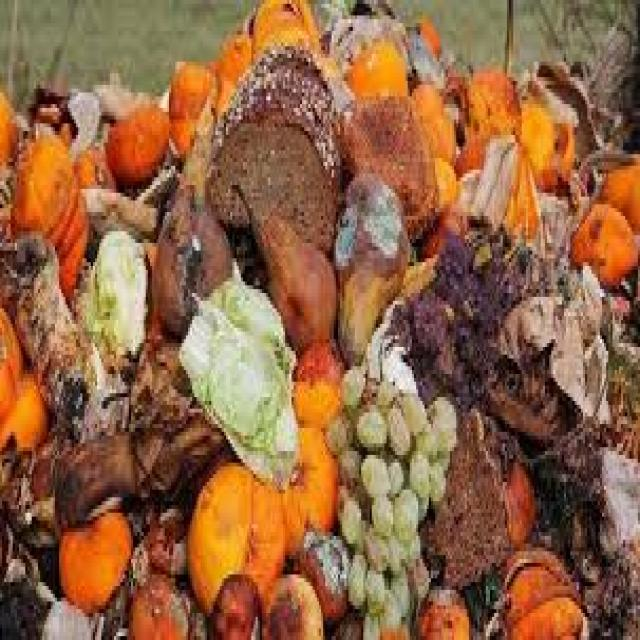organic waste: (0, 93, 638, 636), (332, 366, 446, 636), (380, 216, 549, 393), (203, 69, 342, 247), (0, 232, 78, 548), (46, 386, 224, 498), (253, 0, 350, 204), (57, 89, 211, 208), (184, 447, 289, 621), (156, 212, 243, 393), (342, 85, 446, 231), (490, 289, 591, 436), (13, 104, 90, 289), (236, 193, 336, 335), (336, 178, 408, 366), (437, 412, 505, 598), (0, 532, 120, 636), (150, 66, 237, 192), (340, 251, 442, 347), (87, 220, 150, 370), (555, 428, 638, 540), (332, 16, 437, 104), (270, 424, 332, 571), (446, 66, 520, 178), (477, 139, 541, 266), (566, 189, 638, 301), (492, 548, 581, 636), (399, 74, 458, 200), (57, 501, 131, 598), (285, 328, 347, 436), (507, 85, 568, 185), (412, 575, 496, 636), (585, 544, 638, 636), (264, 571, 323, 636), (207, 567, 260, 636), (505, 444, 541, 544), (300, 532, 344, 613), (127, 578, 188, 636), (589, 150, 638, 220), (135, 513, 188, 574), (361, 563, 387, 624), (357, 397, 384, 455), (175, 590, 207, 636), (384, 405, 406, 451), (408, 448, 428, 498), (402, 385, 421, 432), (388, 571, 408, 613), (372, 486, 388, 536), (357, 513, 374, 559), (366, 524, 384, 567), (428, 455, 446, 497), (378, 586, 397, 625), (404, 524, 421, 567), (391, 490, 410, 528), (361, 451, 380, 486), (338, 444, 359, 474), (342, 490, 355, 536), (359, 605, 378, 636), (420, 416, 435, 451), (385, 528, 397, 567), (351, 555, 361, 598), (387, 455, 397, 486)
